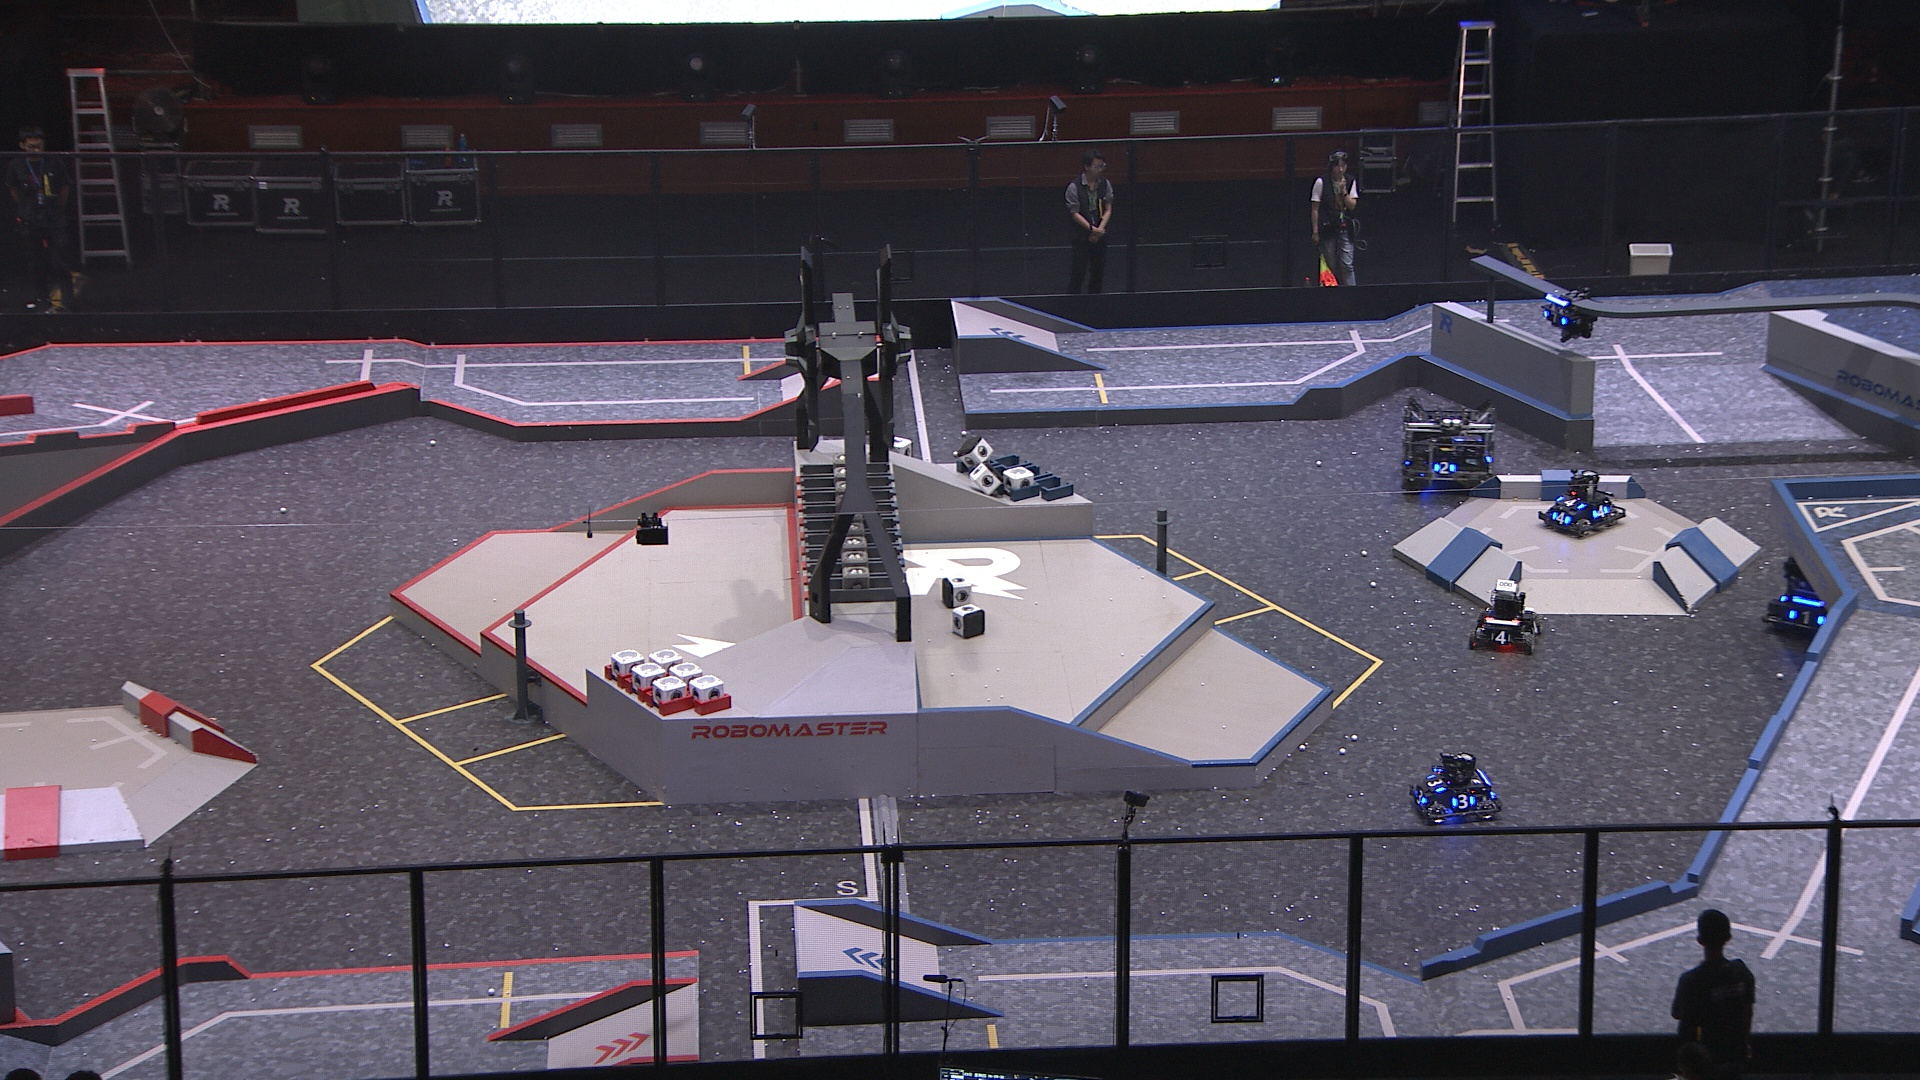armor: (1785, 604, 1826, 628), (1423, 769, 1447, 794), (1543, 306, 1567, 328), (1548, 509, 1571, 527), (1557, 496, 1582, 512), (1433, 458, 1455, 476), (1451, 793, 1476, 807), (1490, 632, 1513, 647), (1415, 783, 1429, 806), (1468, 773, 1485, 789), (1593, 505, 1610, 520), (1527, 618, 1538, 640)
car: (1396, 394, 1501, 502), (1766, 546, 1870, 642), (1408, 746, 1501, 823), (1542, 465, 1623, 538), (1468, 580, 1542, 654)
watcher: (1542, 282, 1596, 342)
